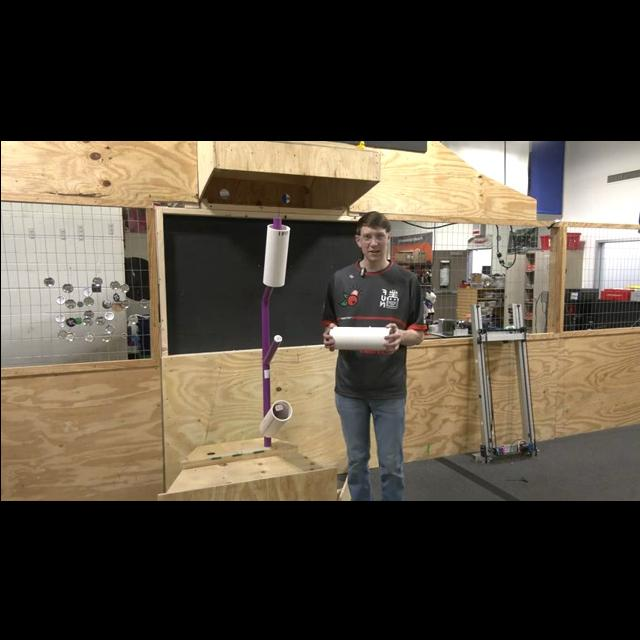CORAL: (262, 216, 290, 286), (328, 324, 392, 350), (259, 399, 291, 436)
